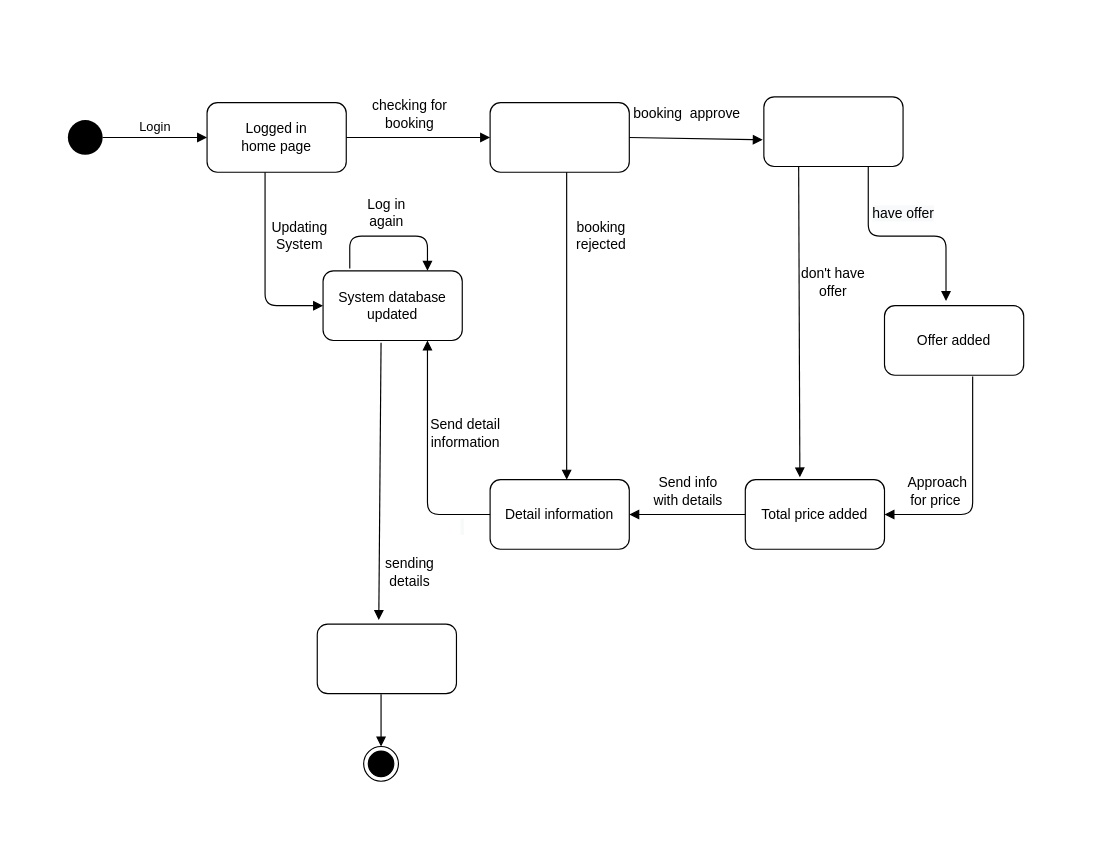
The diagram is 1099 pixels wide and 855 high, and some of its shapes have lost their labels. The centre of each missing label's shape, as x and y in pixels:
Booking approval done: the point at 833,131
booking list: the point at 559,137
Clients: the point at 386,658
